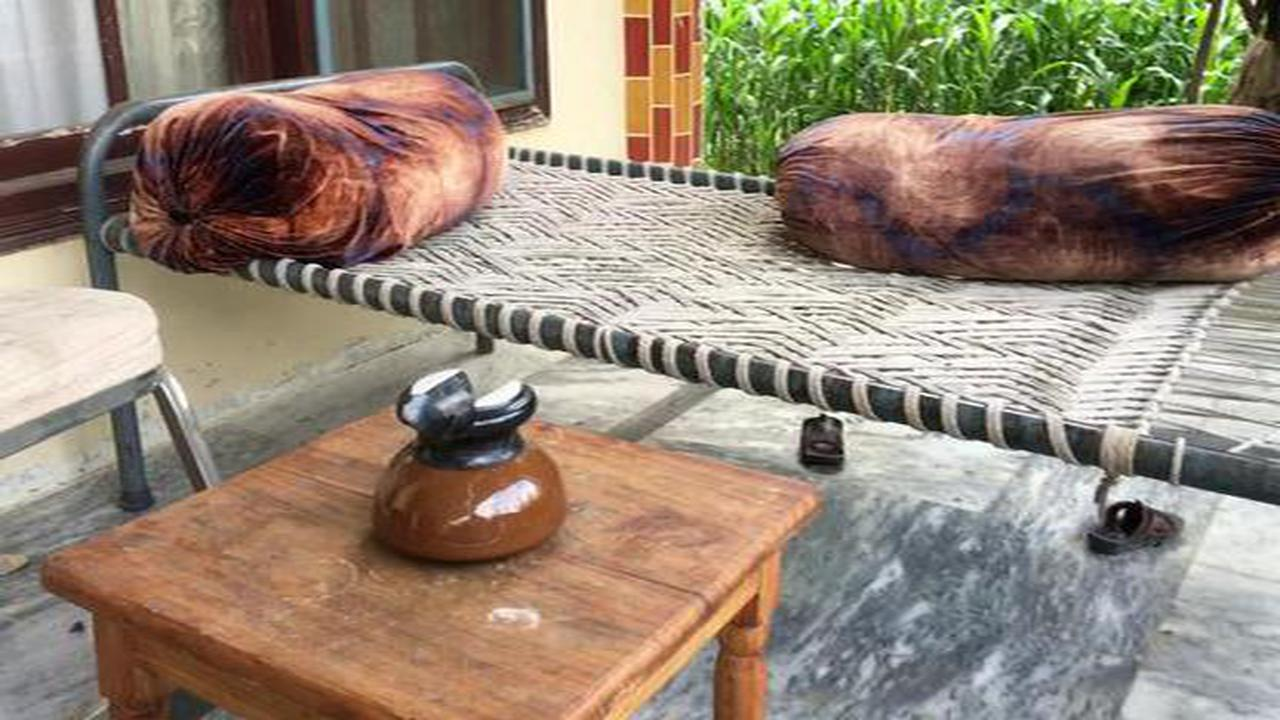insulator_pin: (348, 347, 582, 575)
